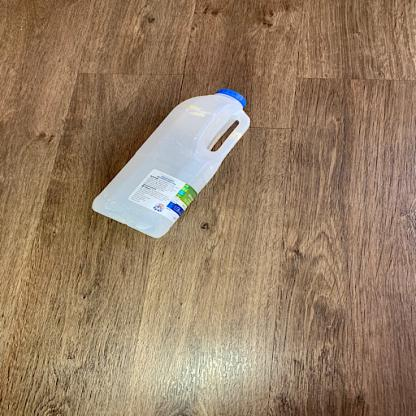trash: (88, 88, 258, 242)
